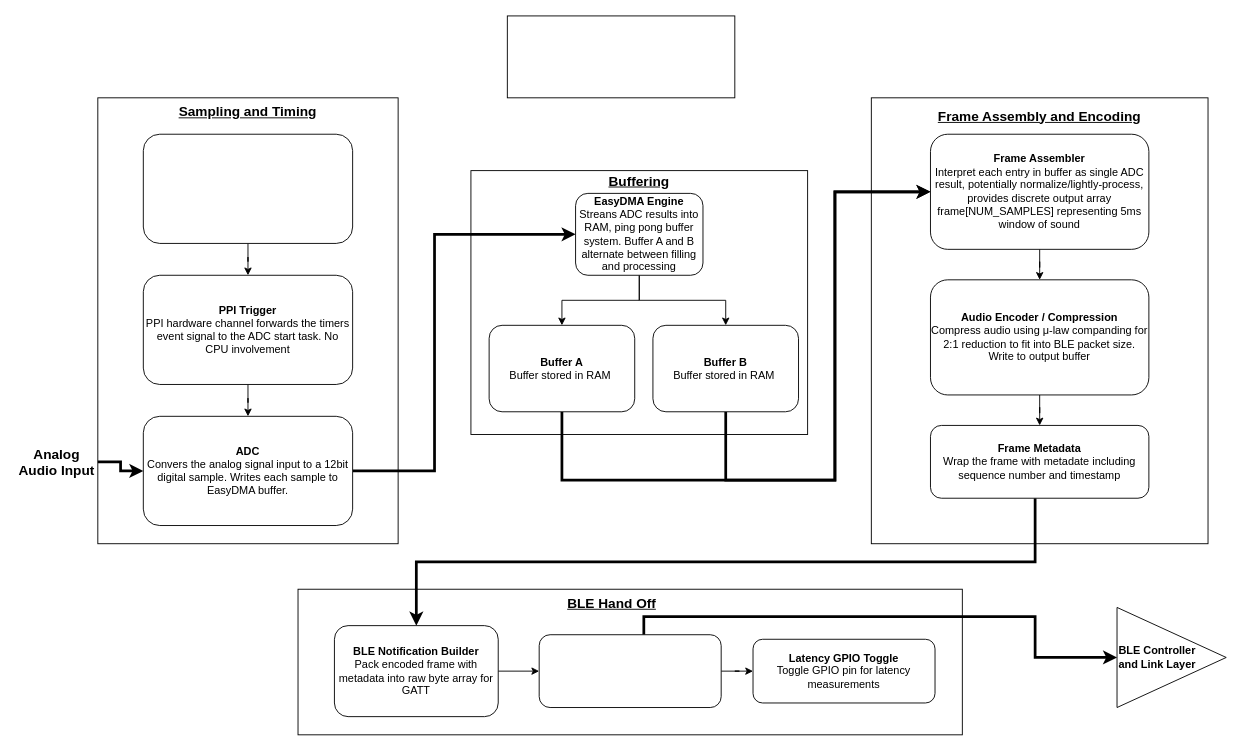
Some shapes in this 1242 by 751 pixel diagram are drawn without their labels. Each missing label, with the centre of its shape:
End-to-End TX Data Path: (620,56)
Hardware Sample Timer Generates periodic ticks at audio sample rate (8-10khz).: (247,188)
NUS Send Call Call bt_nus_client_send() from Zephyr BLE Host Stack API: (629,671)
